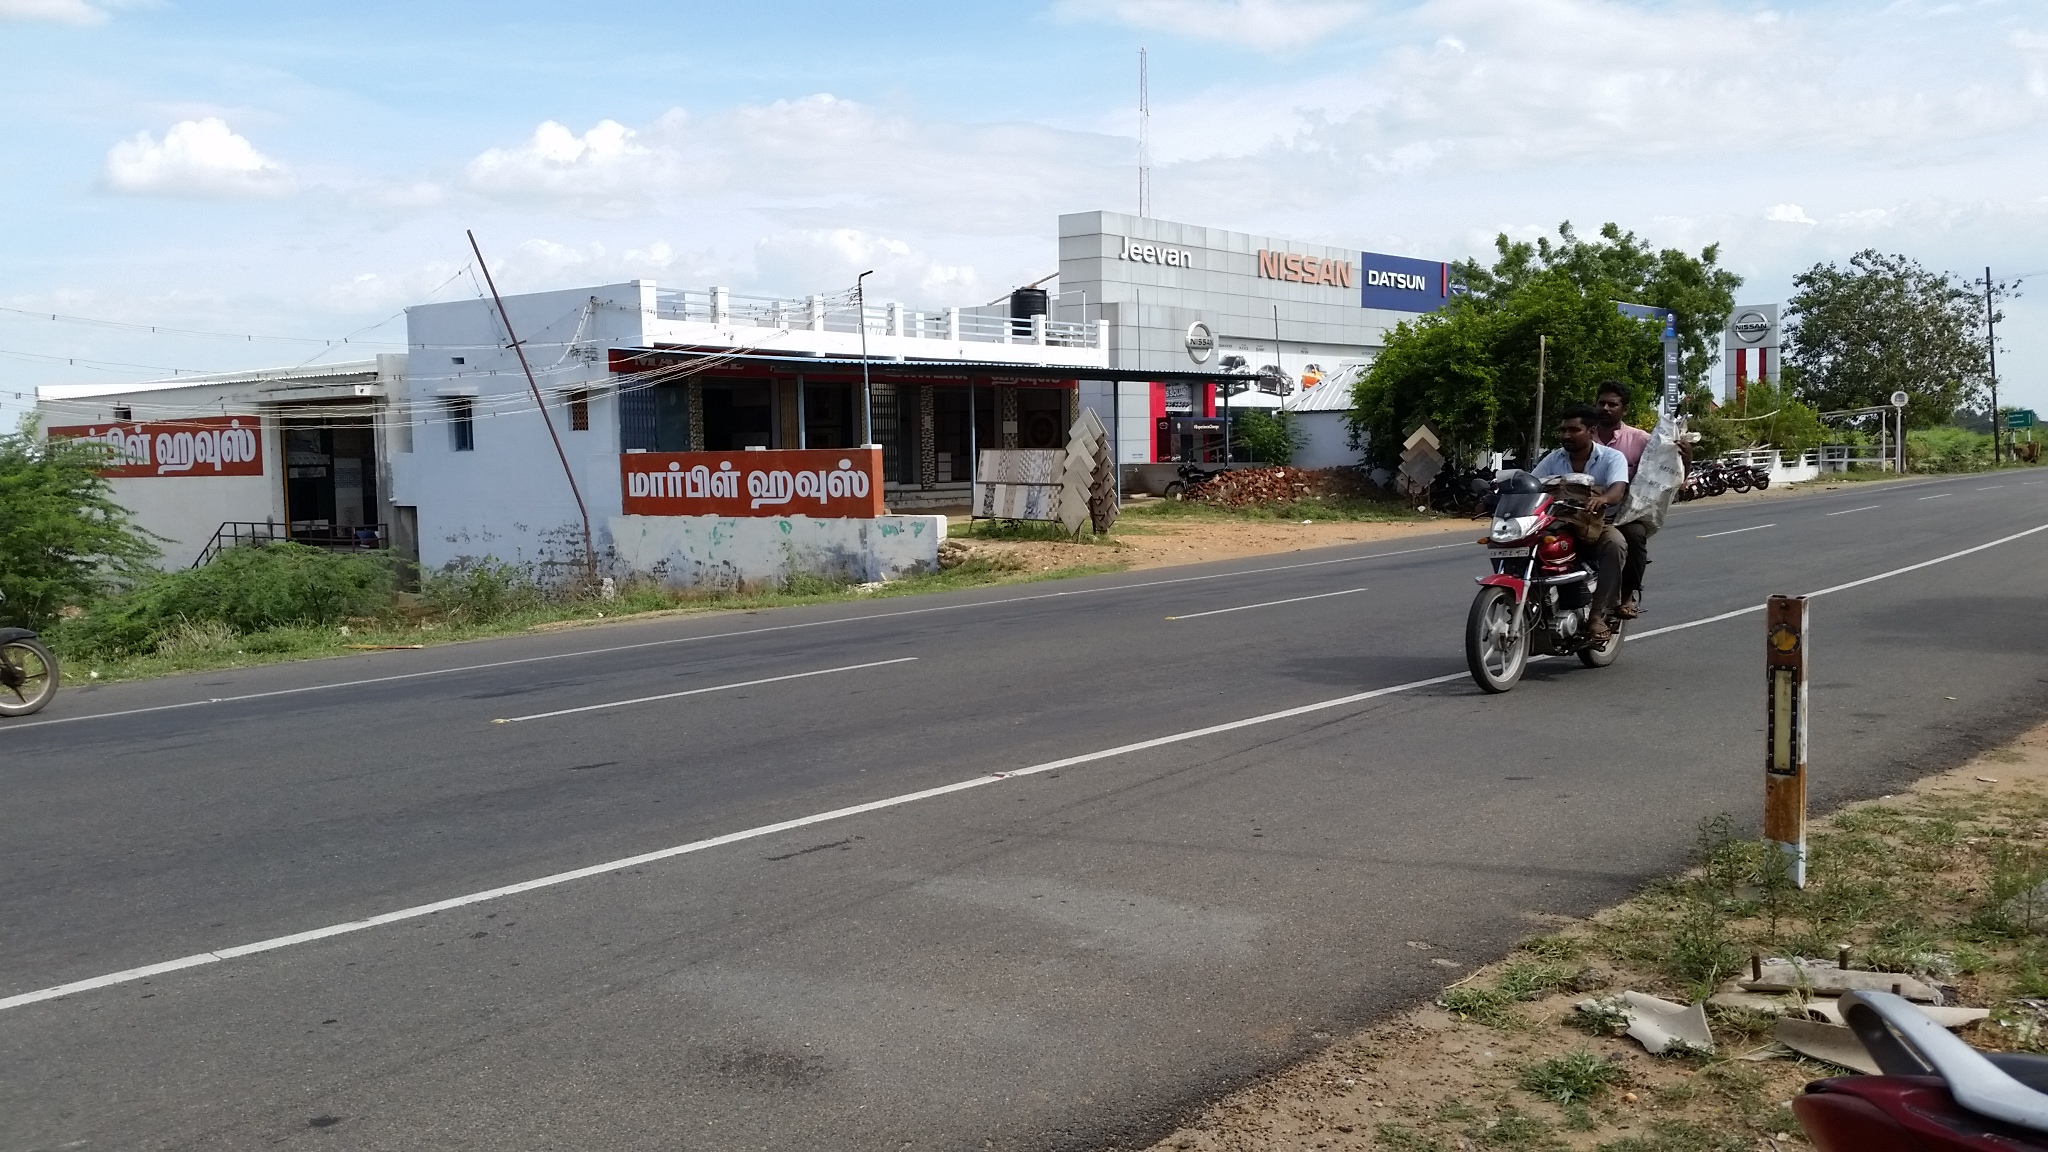biker: (1409, 329, 1721, 712)
nohelmet: (1595, 372, 1644, 436), (1552, 398, 1601, 462)
